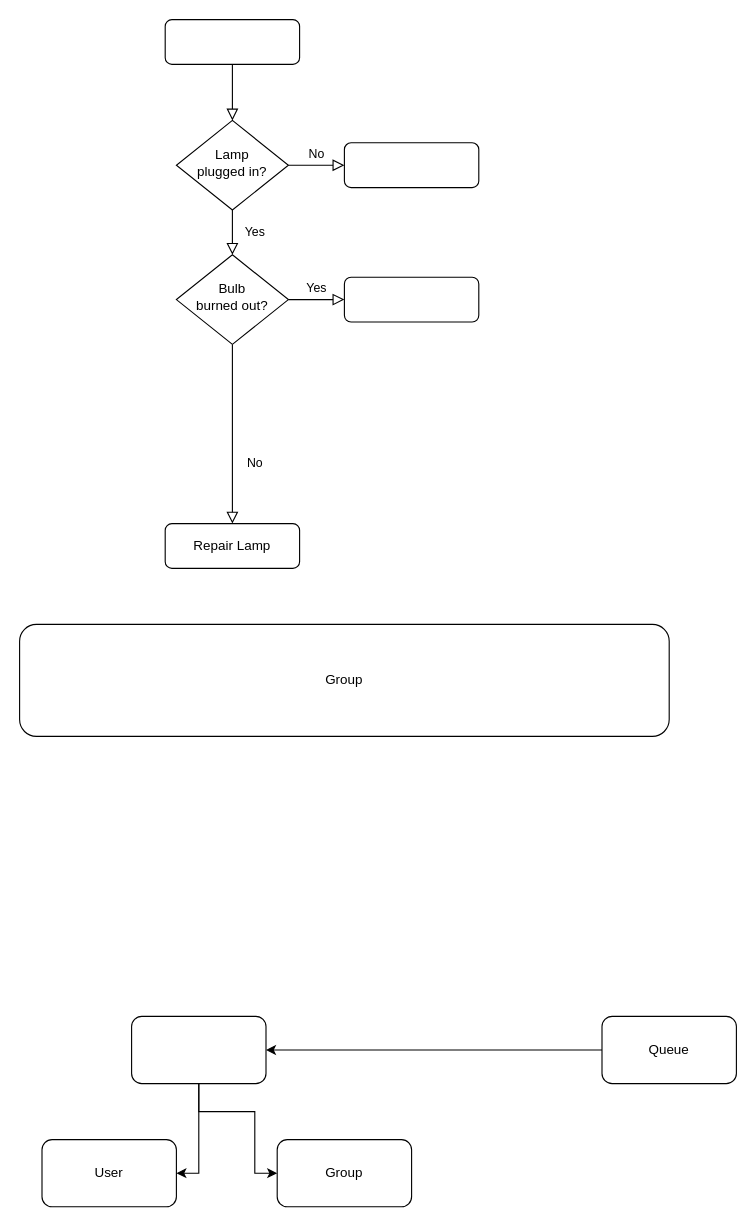
Some shapes in this 756 by 1226 pixel diagram are drawn without their labels. Here are the shapes that lost their labels. From the top down, the centre of each, then its label:
At pixel 232 41: "Lamp doesn't work".
At pixel 411 165: "Plug in lamp".
At pixel 411 299: "Replace Bulb".
At pixel 198 1049: "GroupMember".
